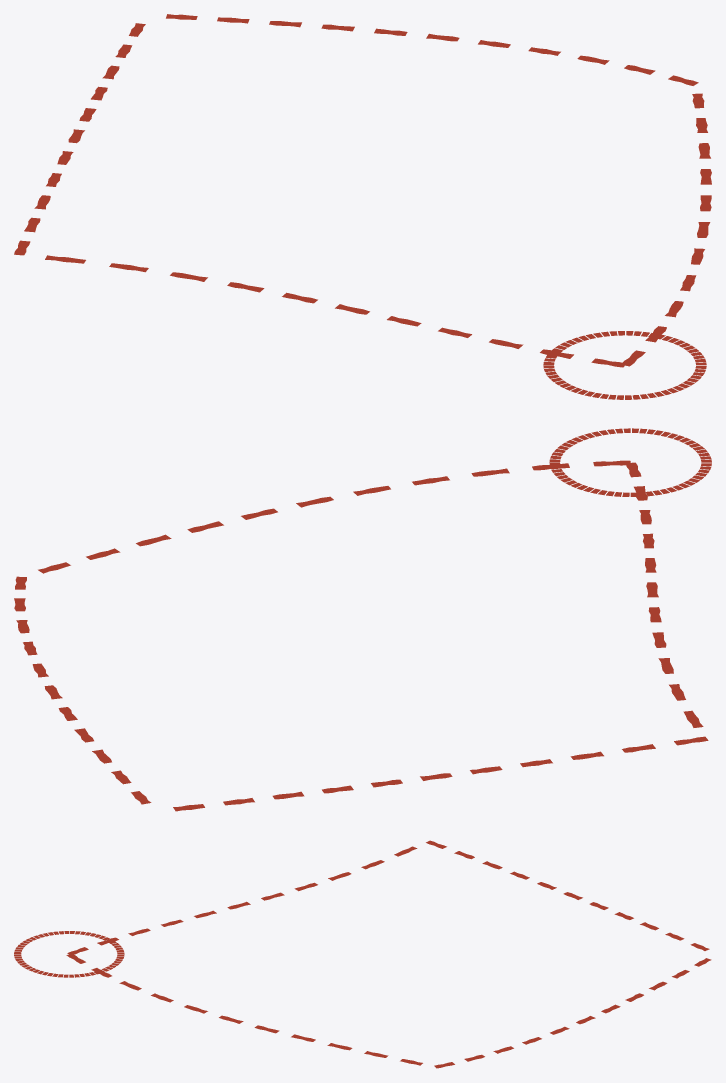
Rendered from MD-03-red-route.glb.
The picture shows the model from 3 angles, top to bottom: view 1: azimuth 30°, elevation 25°; view 2: azimuth 150°, elevation 25°; view 3: azimuth 270°, elevation 25°; orthographic projection. The views are drawn at different scales.
Size of the model in its own units: 0.7076 by 0.000107 by 0.9153.
